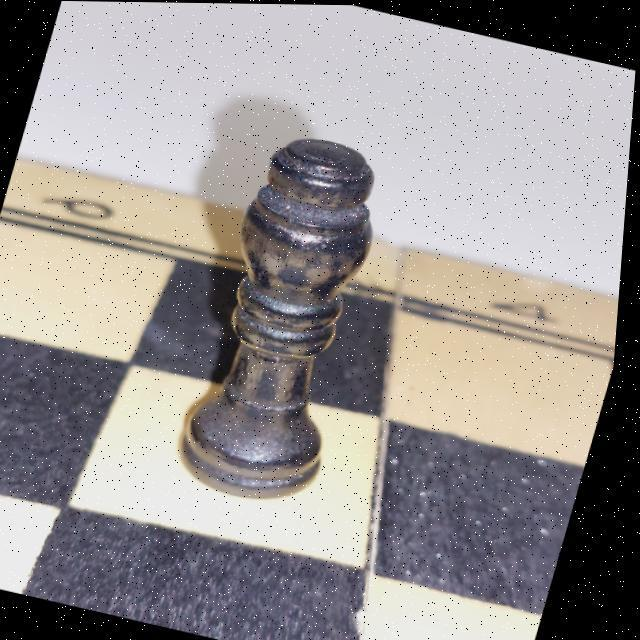black-king: (183, 137, 376, 497)
